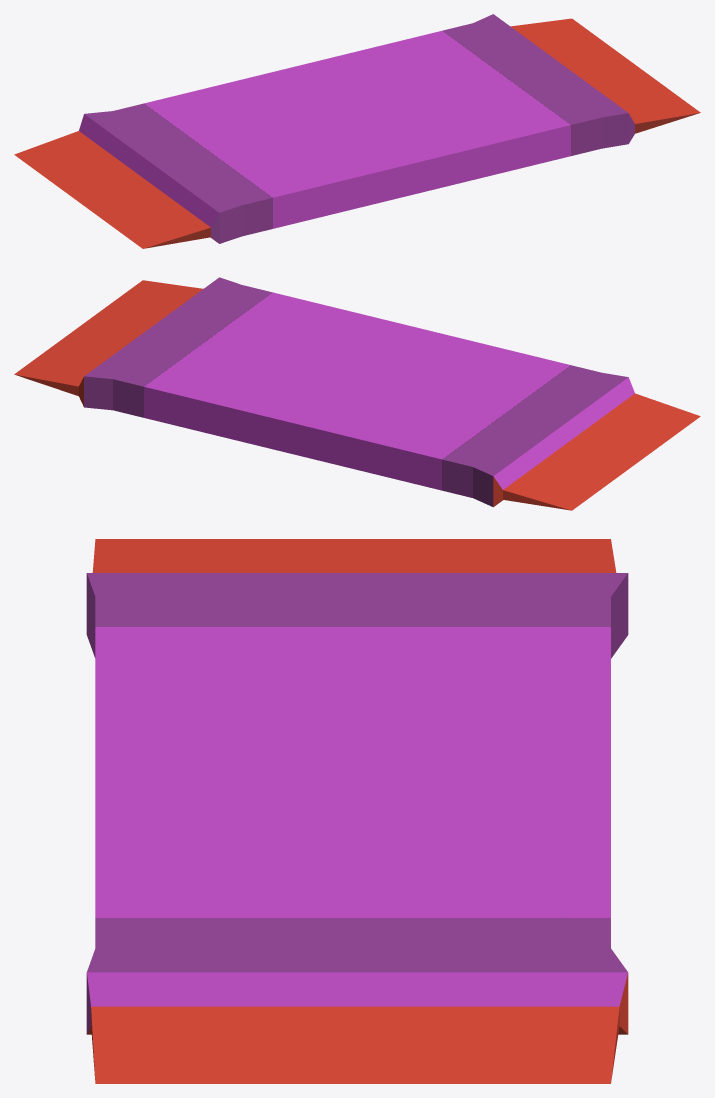
File: chocolate_bar.gltf
3 renders of one model, top to bottom at view 1: azimuth 30°, elevation 25°; view 2: azimuth 150°, elevation 25°; view 3: azimuth 270°, elevation 25°, orthographic. The views are drawn at different scales.
Visible parts, largest first — view 1: mesh; view 2: mesh; view 3: mesh.
Boxes of the visible parts, x1,y1,x2,y2 form: mesh: [14, 14, 700, 248]; mesh: [14, 277, 700, 510]; mesh: [86, 539, 628, 1083].
Bounding box in the file's own units: 0.4688 × 0.025 × 0.1969.
1 material, 1 textured.
